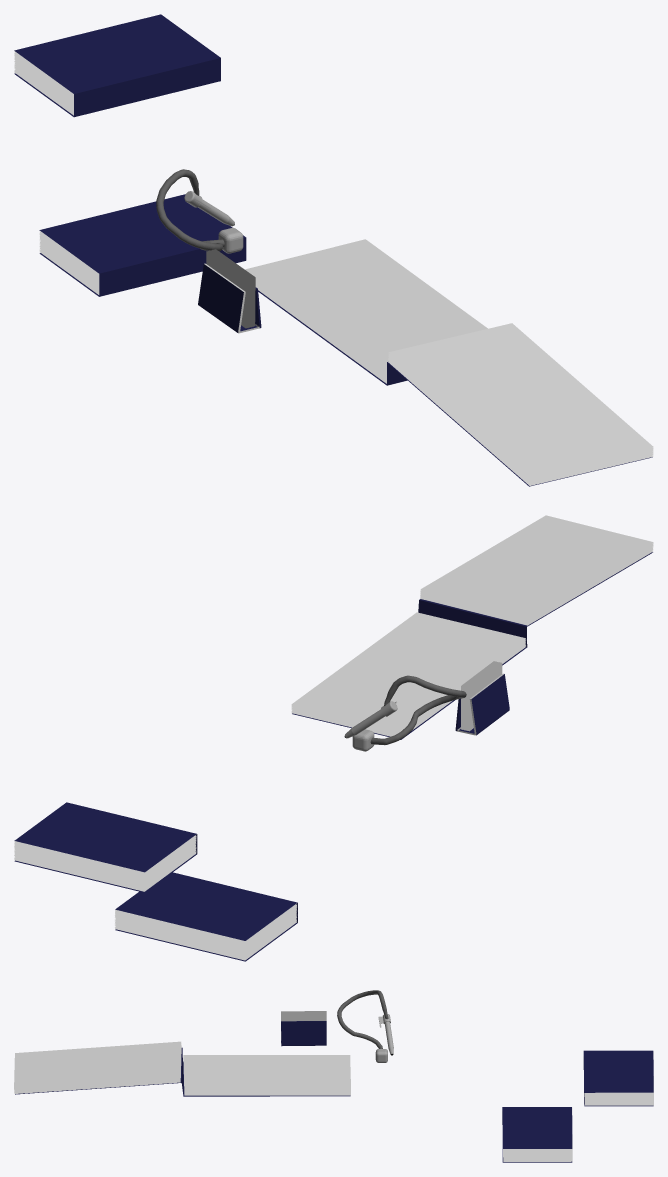
Rendered from Libro Registro Biblioteca Material.glb.
The picture shows the model from 3 angles, top to bottom: view 1: azimuth 30°, elevation 25°; view 2: azimuth 150°, elevation 25°; view 3: azimuth 270°, elevation 25°; orthographic projection. The views are drawn at different scales.
Visible parts, largest first — view 1: Plane.001, Plane.019, sites.001, Cylinder; view 2: Plane.001, Plane.019, sites.001, Cylinder; view 3: Plane.001, Plane.019, sites.001, Cylinder.
Boxes of the visible parts, x1=… form: Plane.001: x1=14, y1=51, x2=653, y2=485; Plane.019: x1=39, y1=194, x2=261, y2=333; sites.001: x1=14, y1=14, x2=652, y2=486; Cylinder: x1=156, y1=169, x2=243, y2=253; Plane.001: x1=14, y1=515, x2=653, y2=891; Plane.019: x1=115, y1=661, x2=509, y2=961; sites.001: x1=14, y1=552, x2=652, y2=892; Cylinder: x1=344, y1=675, x2=466, y2=751; Plane.001: x1=14, y1=1041, x2=653, y2=1105; Plane.019: x1=281, y1=1011, x2=572, y2=1162; sites.001: x1=15, y1=1047, x2=653, y2=1106; Cylinder: x1=337, y1=990, x2=393, y2=1062.
Size of the model in its own units: 3.45 by 2.7 by 12.86.
